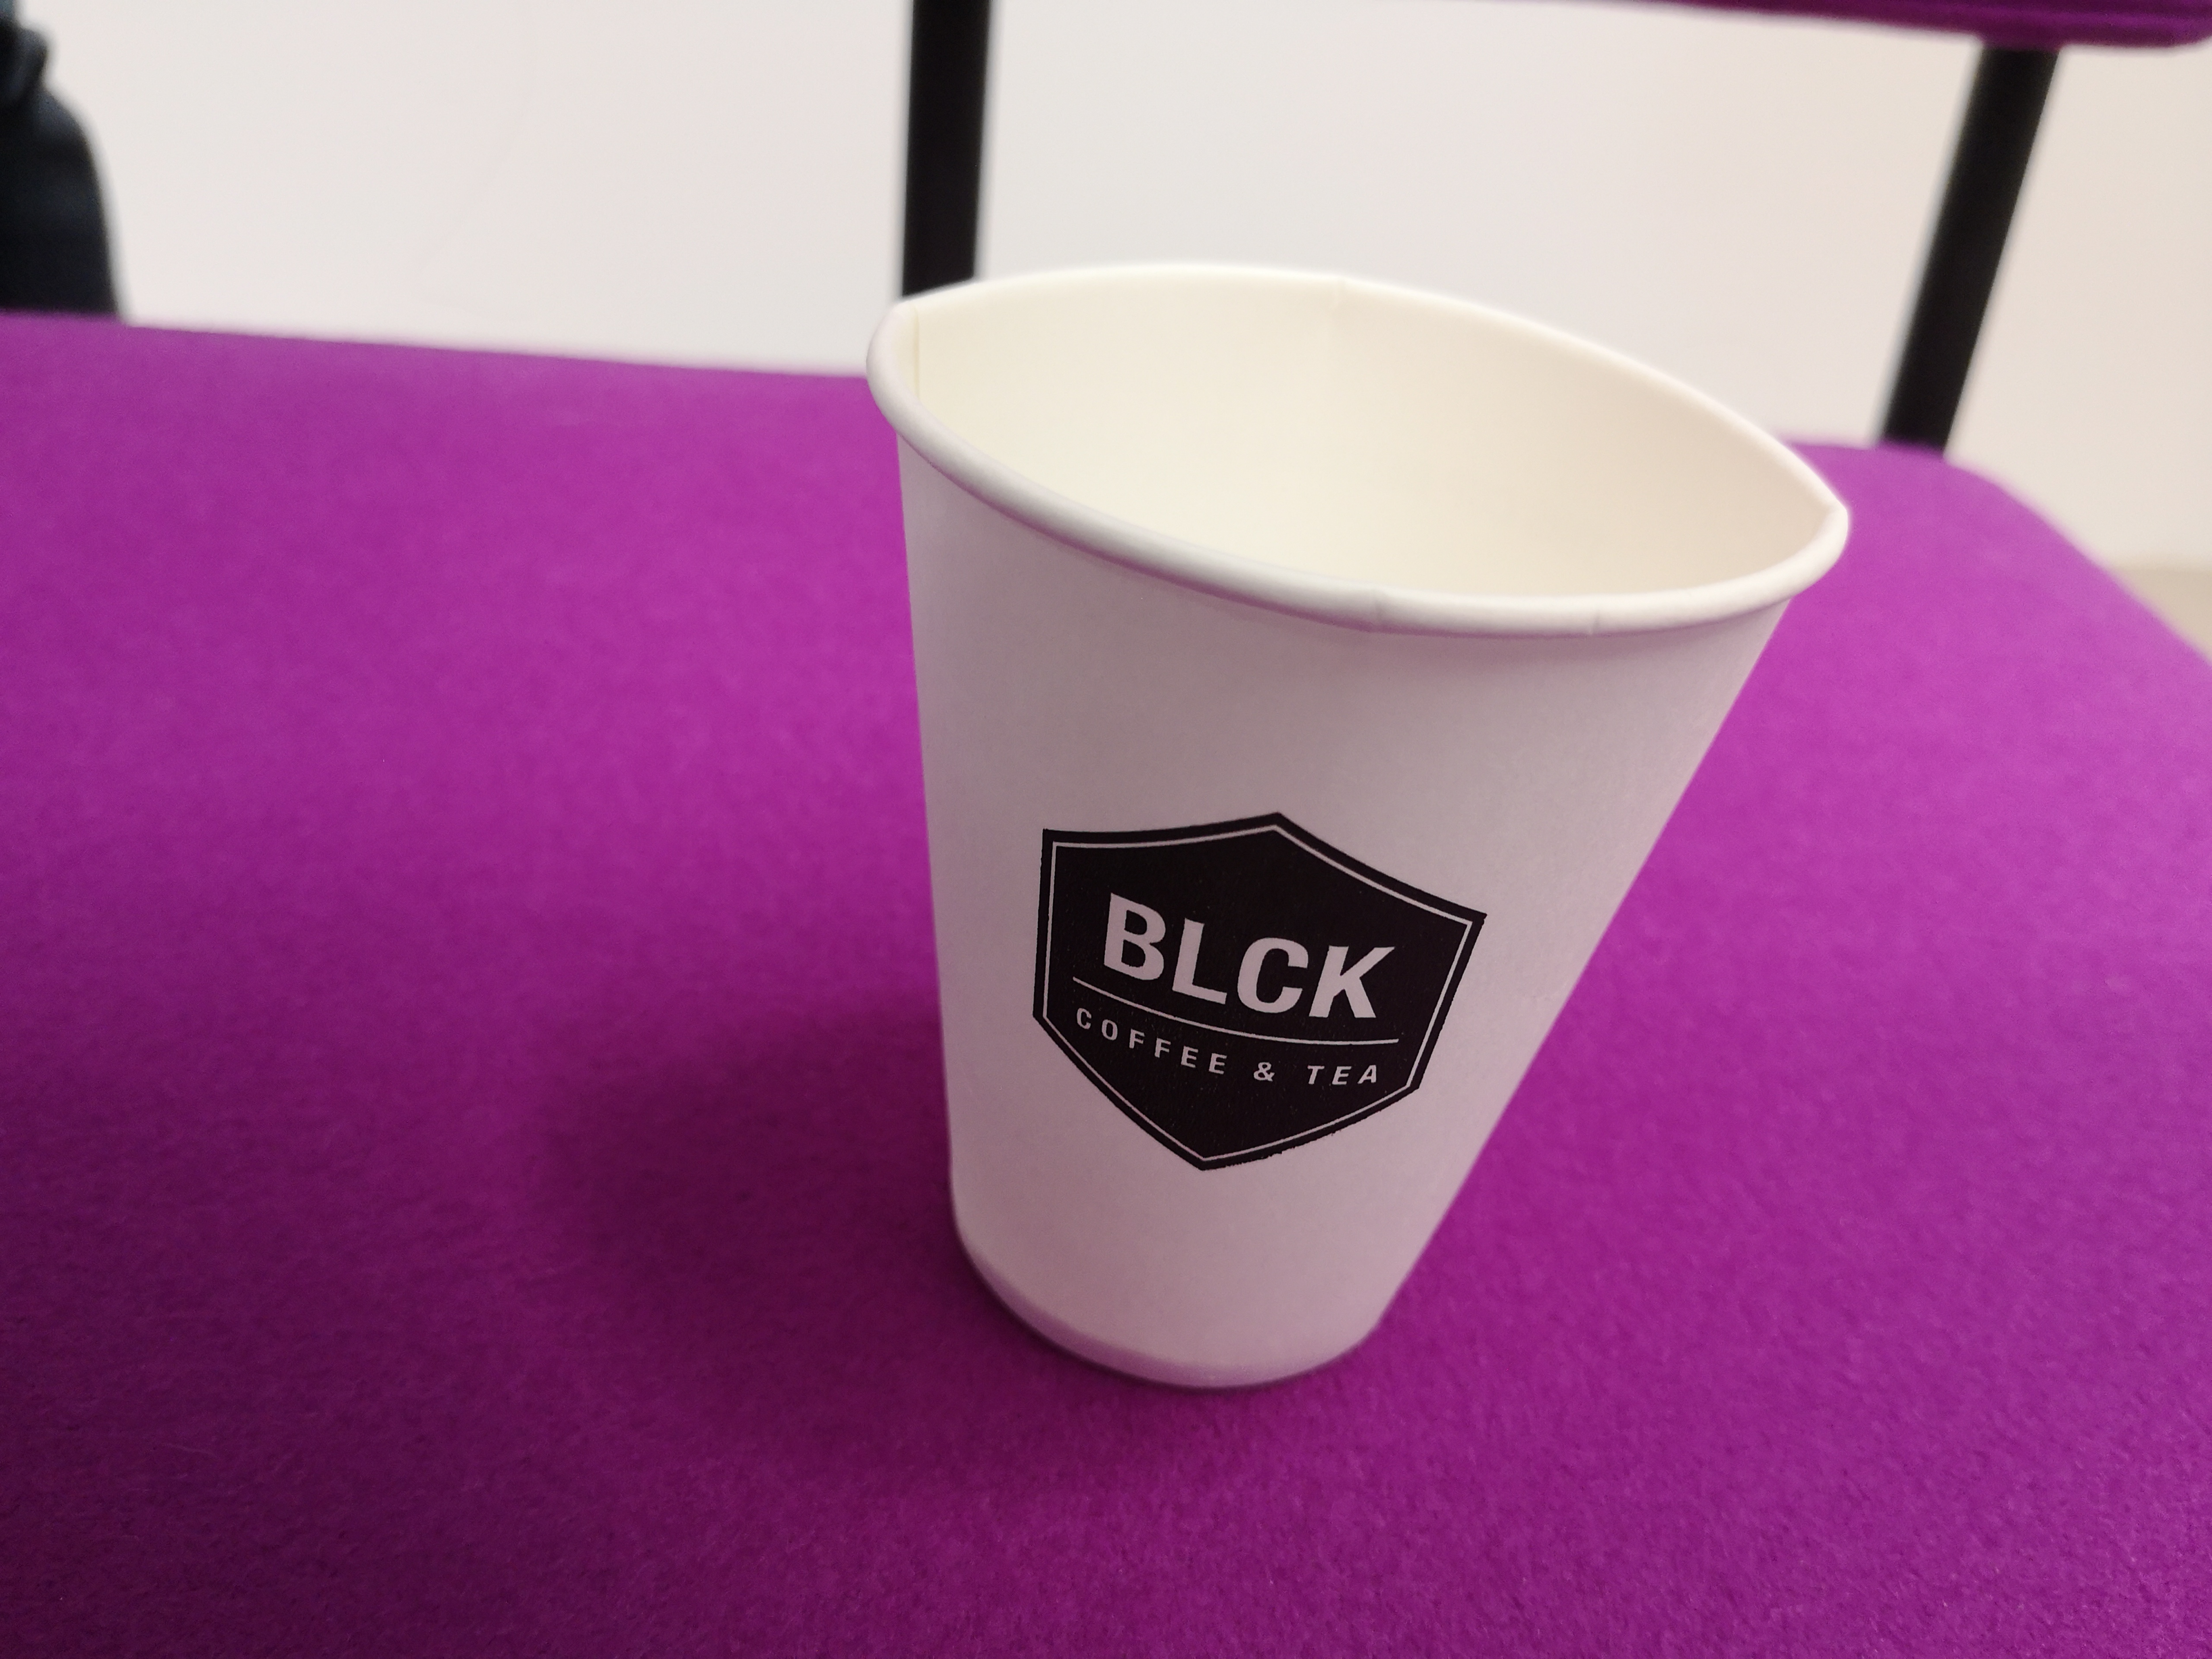cup: (834, 228, 1867, 1441)
